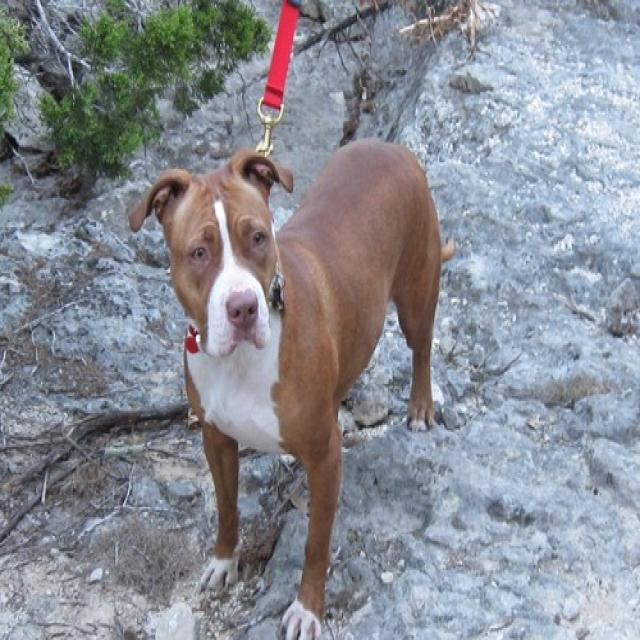dog-american_pit_bull_terrier: (124, 130, 460, 637)
